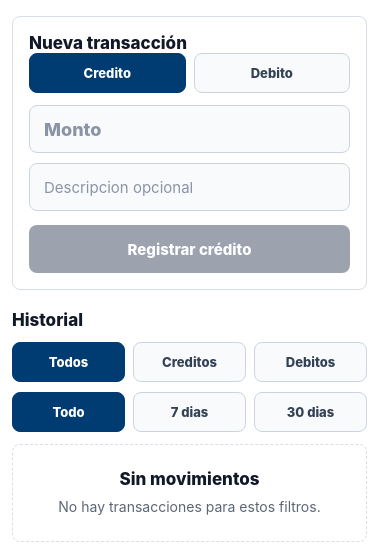
it: <TransactionsPanel /> › posts a credit and refreshes history
The image size is (384, 559).
Expected: the text "Sin movimientos" is shown, 120,469 -> 260,489
Type "75,5" into the field with placeholder "Monto" at (190, 129), box 29,105 -> 350,153
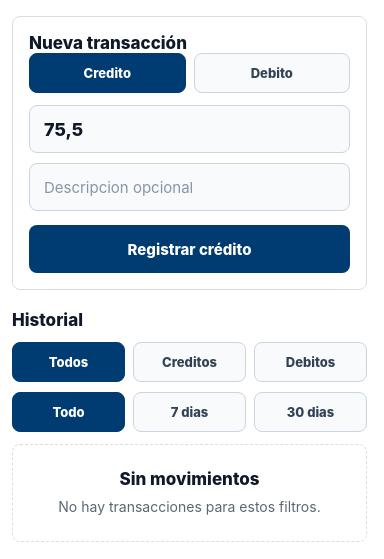
Type "Opening deposit" into the field with placeholder "Descripcion opcional" at (190, 187), box 29,163 -> 350,211
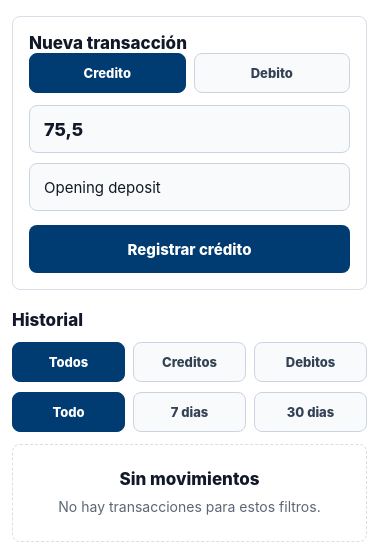
Click the button "Registrar crédito" at (190, 249), box 29,225 -> 350,273
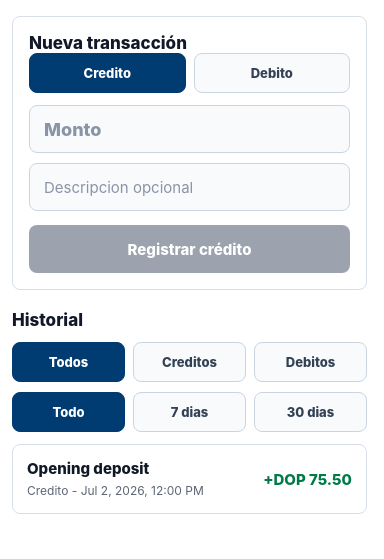
Now the text "Opening deposit" is shown, box 27,459 -> 149,478
